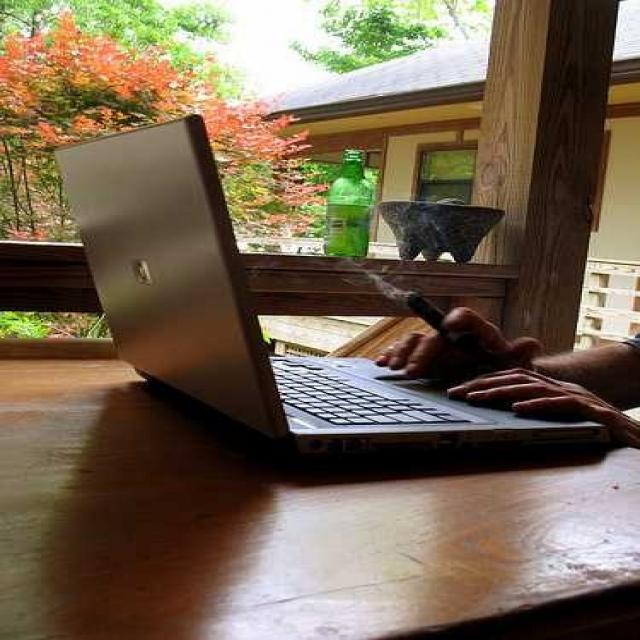laptop: (56, 130, 621, 473)
